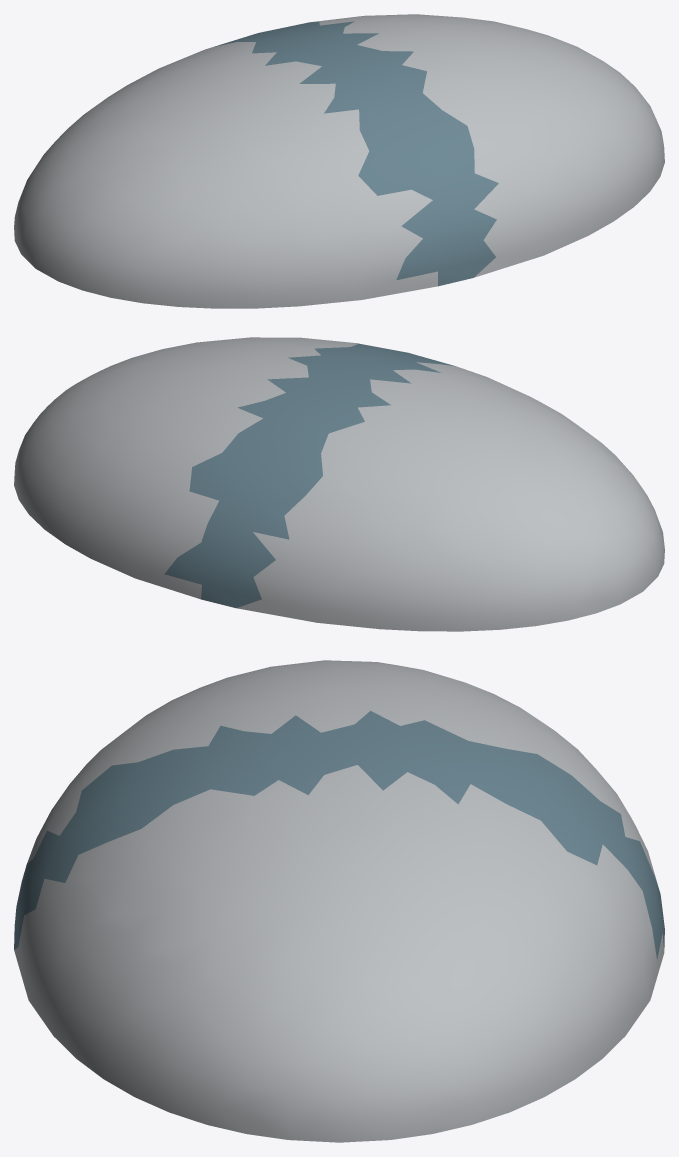
The model's file is ncpa-far-1119409b3d.glb.
3 renders of one model, top to bottom at view 1: azimuth 30°, elevation 25°; view 2: azimuth 150°, elevation 25°; view 3: azimuth 270°, elevation 25°, orthographic. The views are drawn at different scales.
Parts seen in each view (by area): view 1: ncpa coarse.001; view 2: ncpa coarse.001; view 3: ncpa coarse.001.
Boxes of the visible parts, x1,y1,x2,y2 form: ncpa coarse.001: (14, 14, 664, 308); ncpa coarse.001: (14, 337, 664, 631); ncpa coarse.001: (14, 660, 664, 1142).
Bounding box in the file's own units: 212 × 46.68 × 144.
